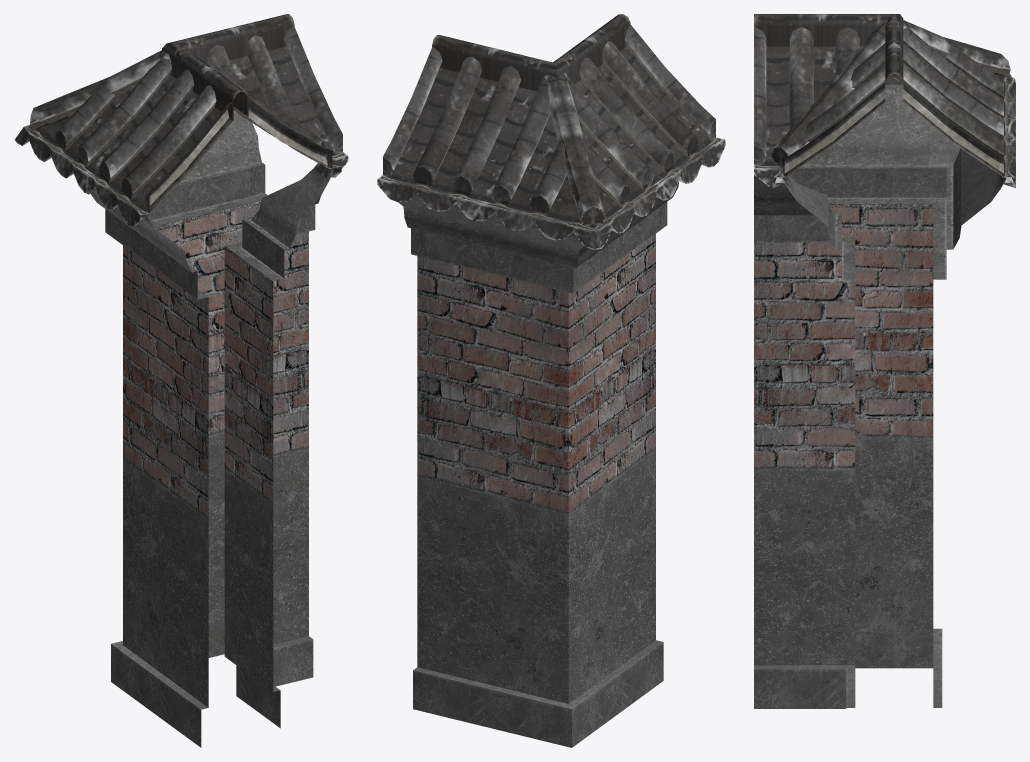
The model's file is hutong_wall_a_corner.fbx.
3 renders of one model, left to right at view 1: azimuth 30°, elevation 25°; view 2: azimuth 150°, elevation 25°; view 3: azimuth 270°, elevation 25°, orthographic. The views are drawn at different scales.
Parts seen in each view (by area): view 1: hutong_wall_a_corner; view 2: hutong_wall_a_corner; view 3: hutong_wall_a_corner.
Part boxes in pixels (<box>): hutong_wall_a_corner: <box>14,14,348,747</box>; hutong_wall_a_corner: <box>377,14,725,747</box>; hutong_wall_a_corner: <box>754,14,1015,708</box>.
Size of the model in its own units: 119 by 338 by 119.
2 materials, 2 textured.
